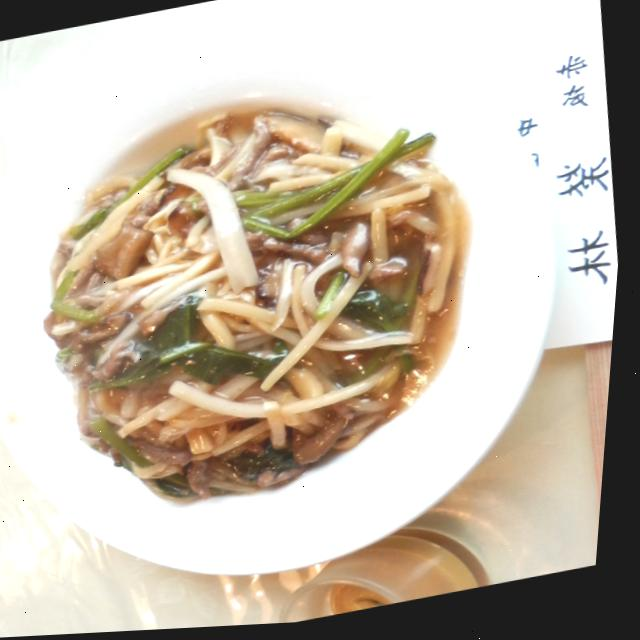牛肉菜式: (0, 0, 612, 629)
